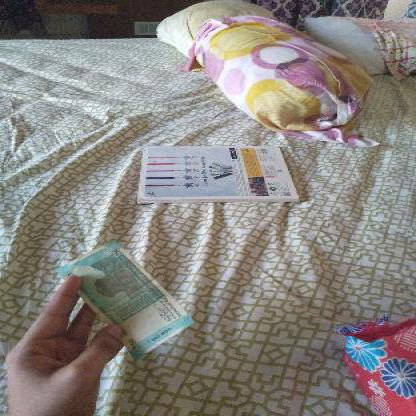New50Back: (62, 237, 190, 357)
